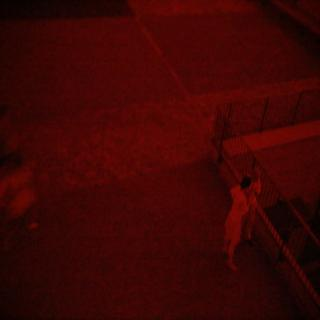person: (222, 169, 250, 279)
